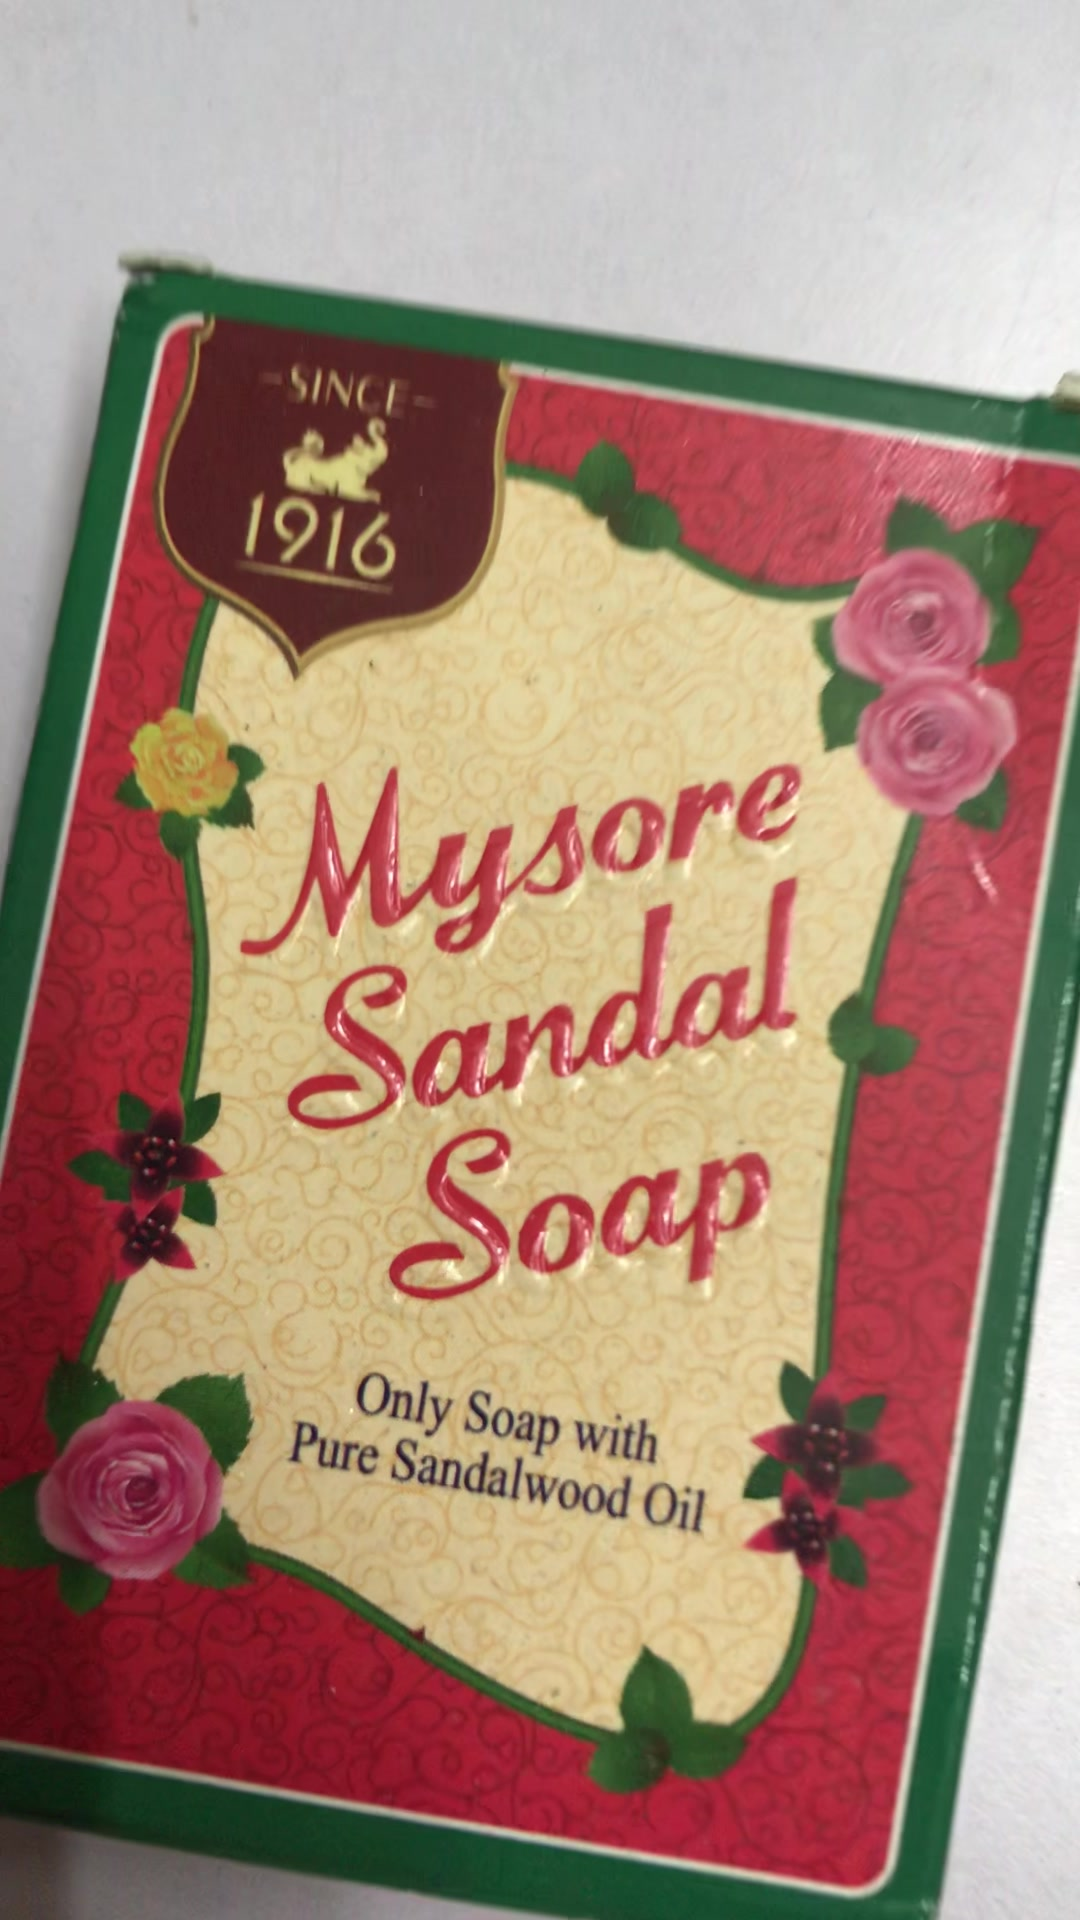mysore sandal soap: (1, 255, 1073, 1911)
